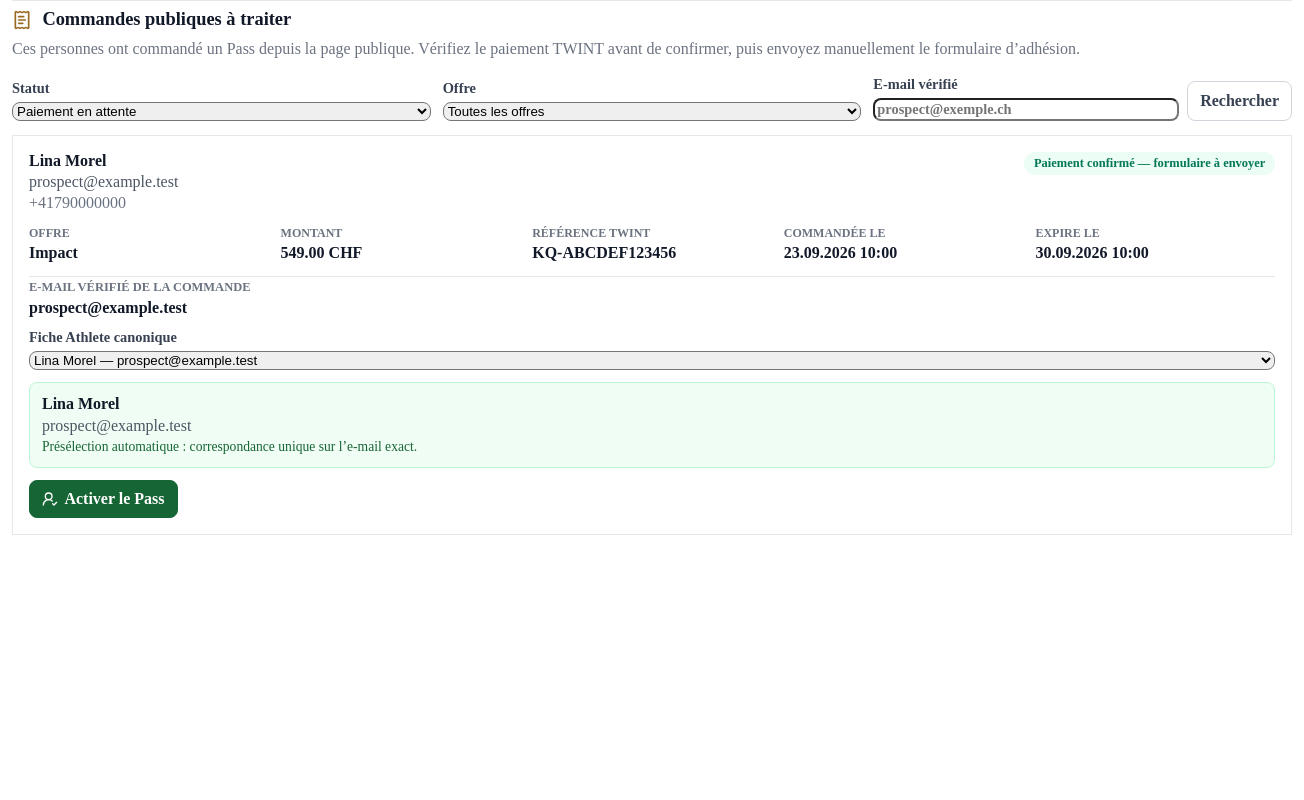
Scenario: Admin prospect membership orders settings section › shows the business message returned by a 409 response
The image size is (1304, 800).
Click the button "Activer le Pass": [103, 499] box [29,480,178,518]
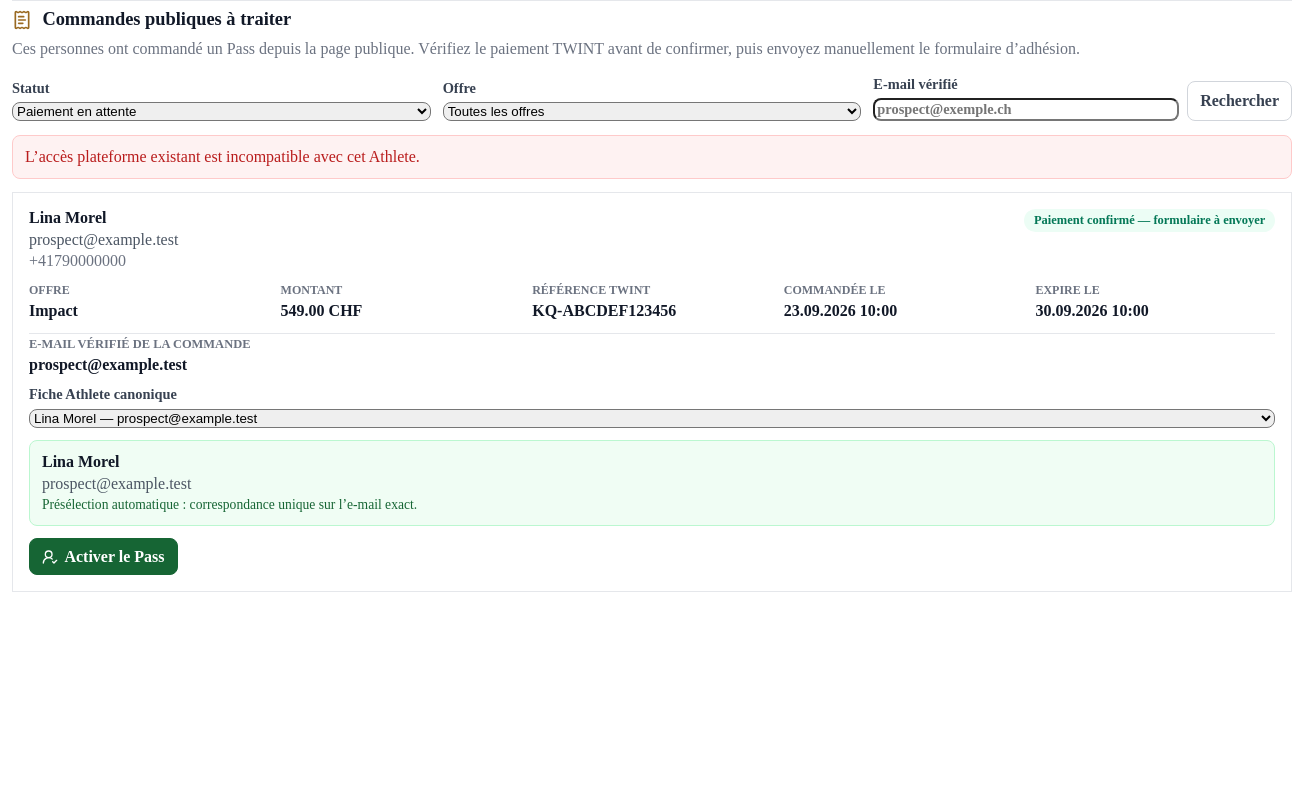
Check: the message "L’accès plateforme existant est incompatible avec cet Athlete." is shown, box [12,135,1292,179]
